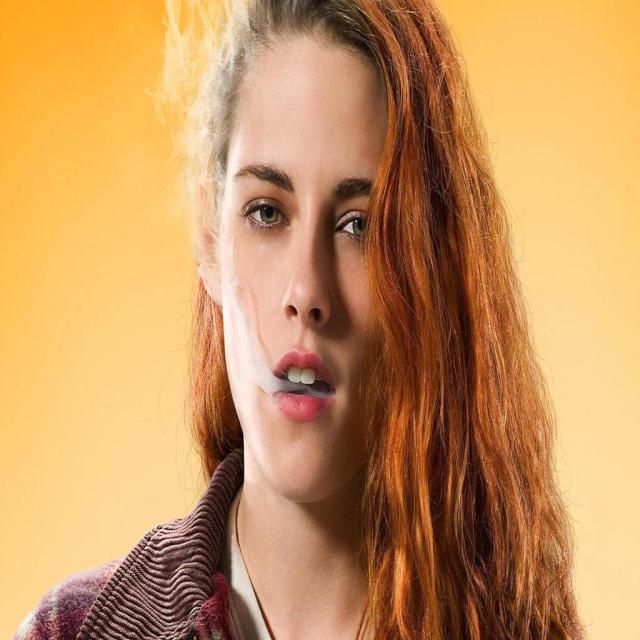smoking: (185, 0, 452, 539)
